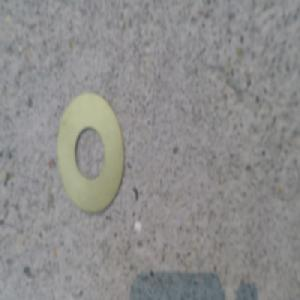Washer: (58, 91, 128, 217)
